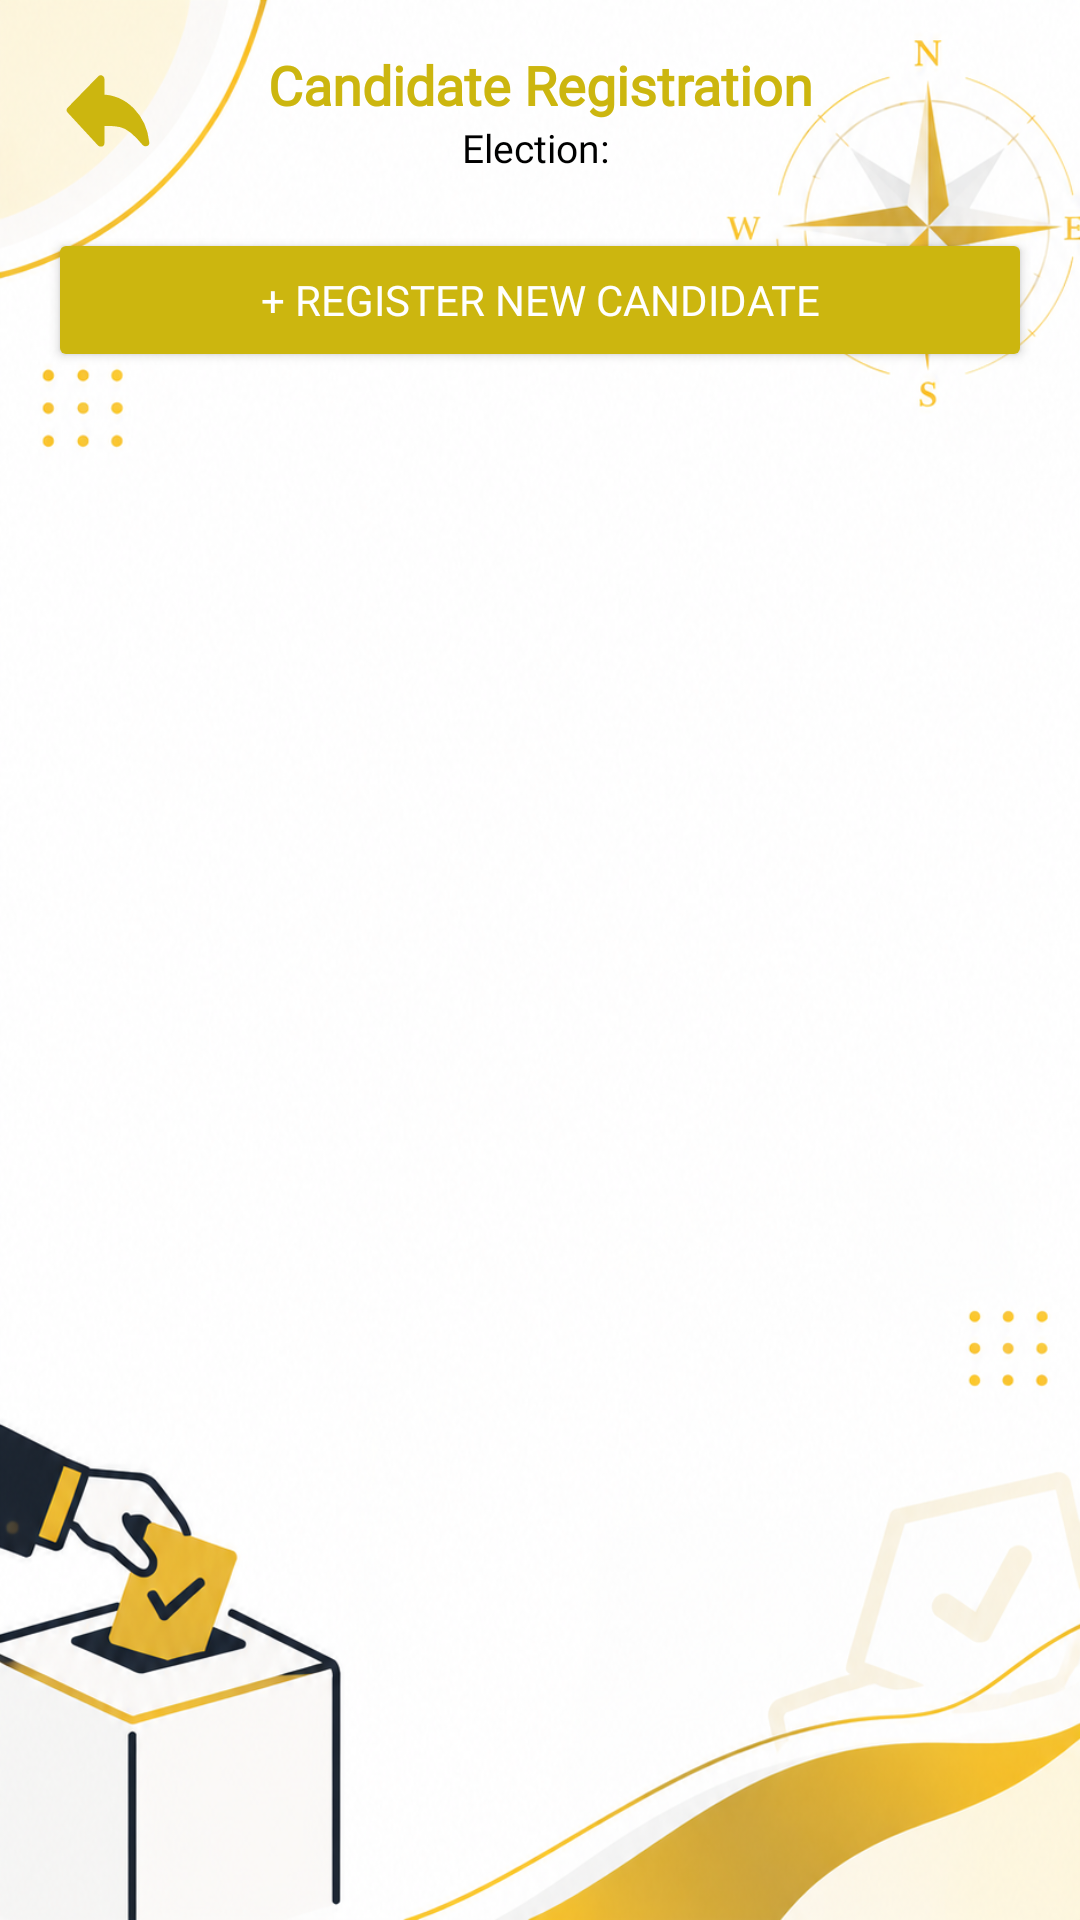

Icon click points for this 1080px×1920px phone screenshot, format point (x, y):
Back: point (117, 122)
